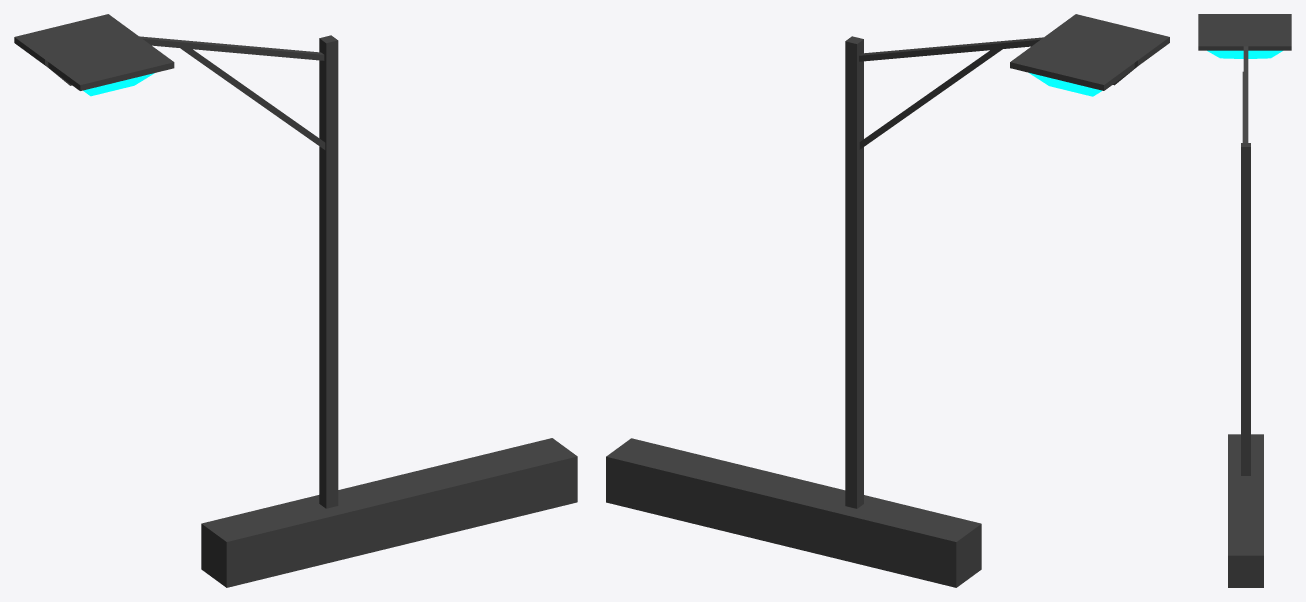
Rendered from Bridge.fbx.
3 renders of one model, left to right at view 1: azimuth 30°, elevation 25°; view 2: azimuth 150°, elevation 25°; view 3: azimuth 270°, elevation 25°, orthographic. The views are drawn at different scales.
Visible parts, largest first — view 1: Lantern; view 2: Lantern; view 3: Lantern.
Part boxes in pixels (x1,y1,x2,y2): Lantern: (14,14,577,587); Lantern: (606,14,1169,587); Lantern: (1198,14,1291,587).
Size of the model in its own units: 181 by 186 by 39.77.
